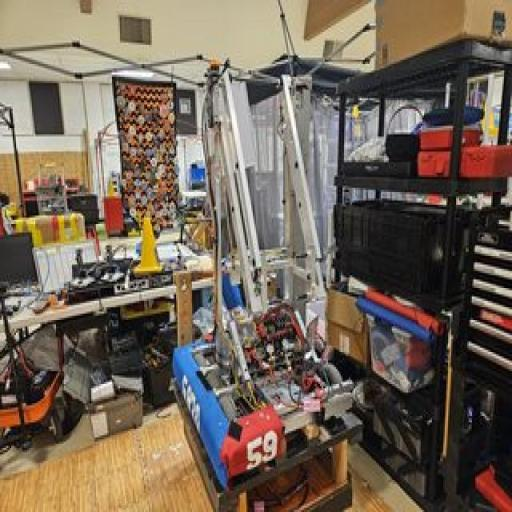robot: (169, 58, 377, 475)
